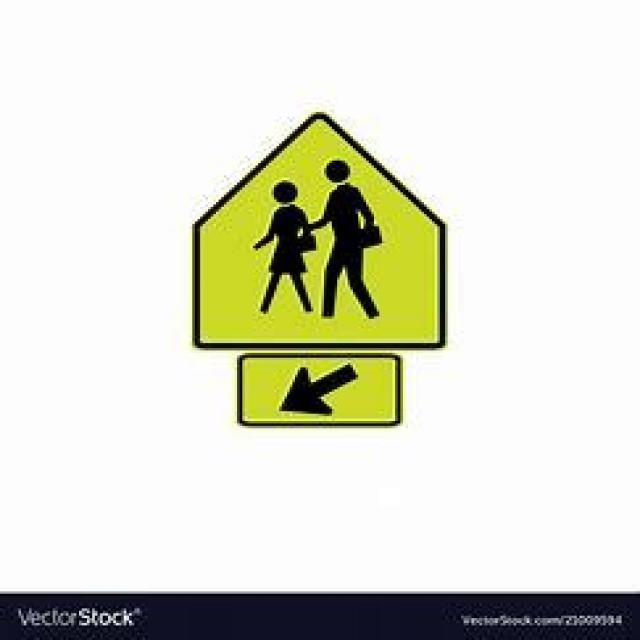SCHOOL_AHEAD: (187, 107, 448, 346)
